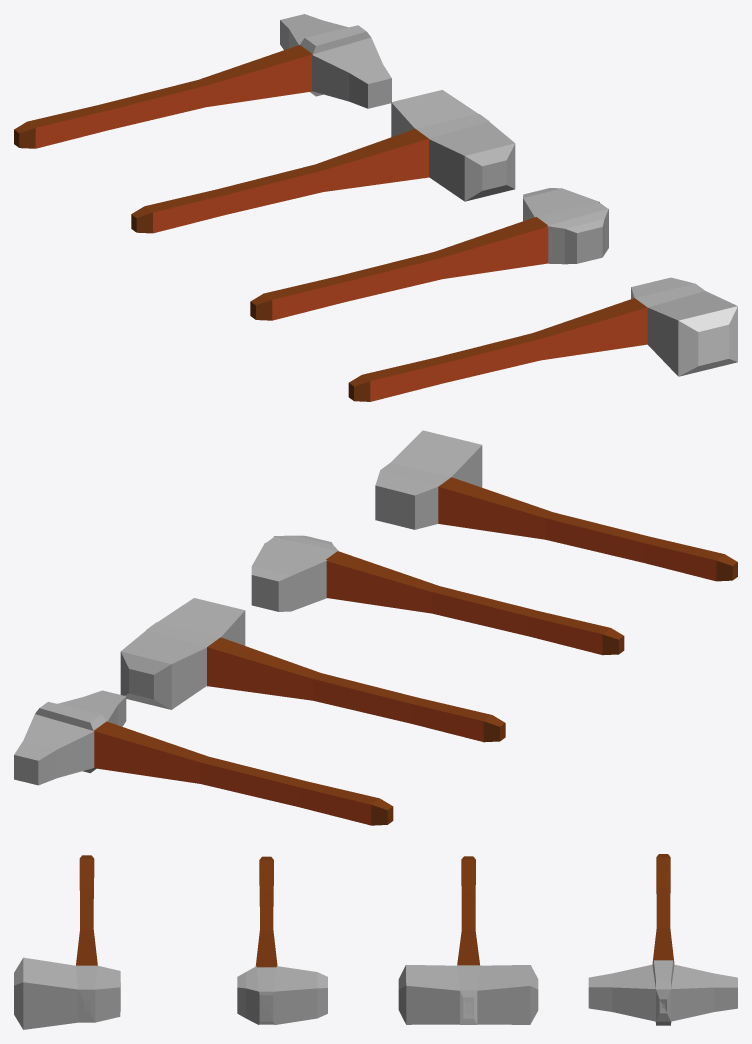
File: SimpleGameHammers.fbx
The picture shows the model from 3 angles, top to bottom: view 1: azimuth 30°, elevation 25°; view 2: azimuth 150°, elevation 25°; view 3: azimuth 270°, elevation 25°; orthographic projection. The views are drawn at different scales.
Parts seen in each view (by area): view 1: Cube; view 2: Cube; view 3: Cube.
Boxes of the visible parts, left/top/right/bottom form: Cube: left=14, top=14, right=737, bottom=401; Cube: left=14, top=430, right=737, bottom=825; Cube: left=14, top=854, right=737, bottom=1029.
Size of the model in its own units: 501 by 77.11 by 1031.
